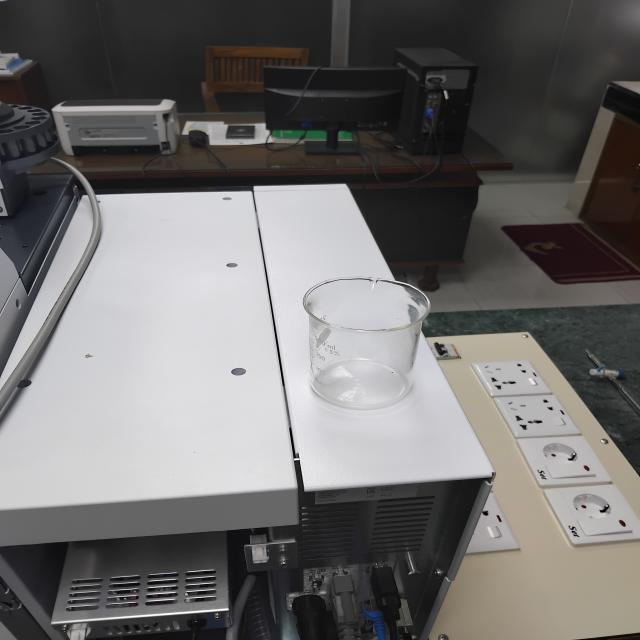Beaker: (267, 244, 464, 432)
